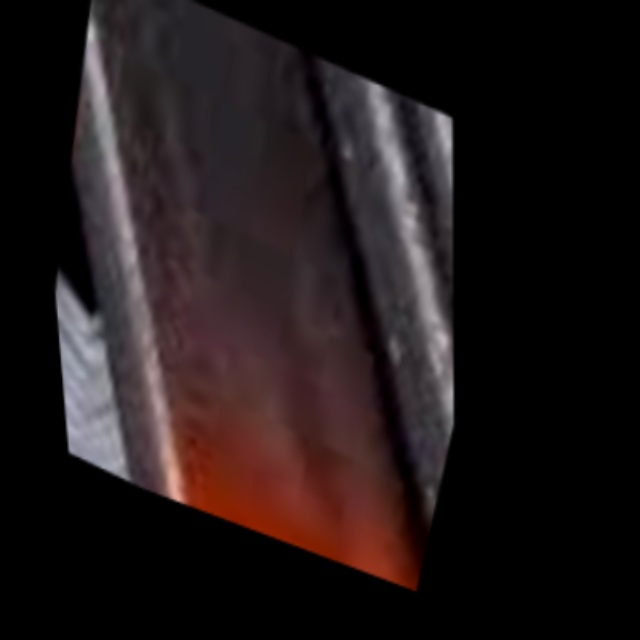Angle: (188, 265, 455, 606)
